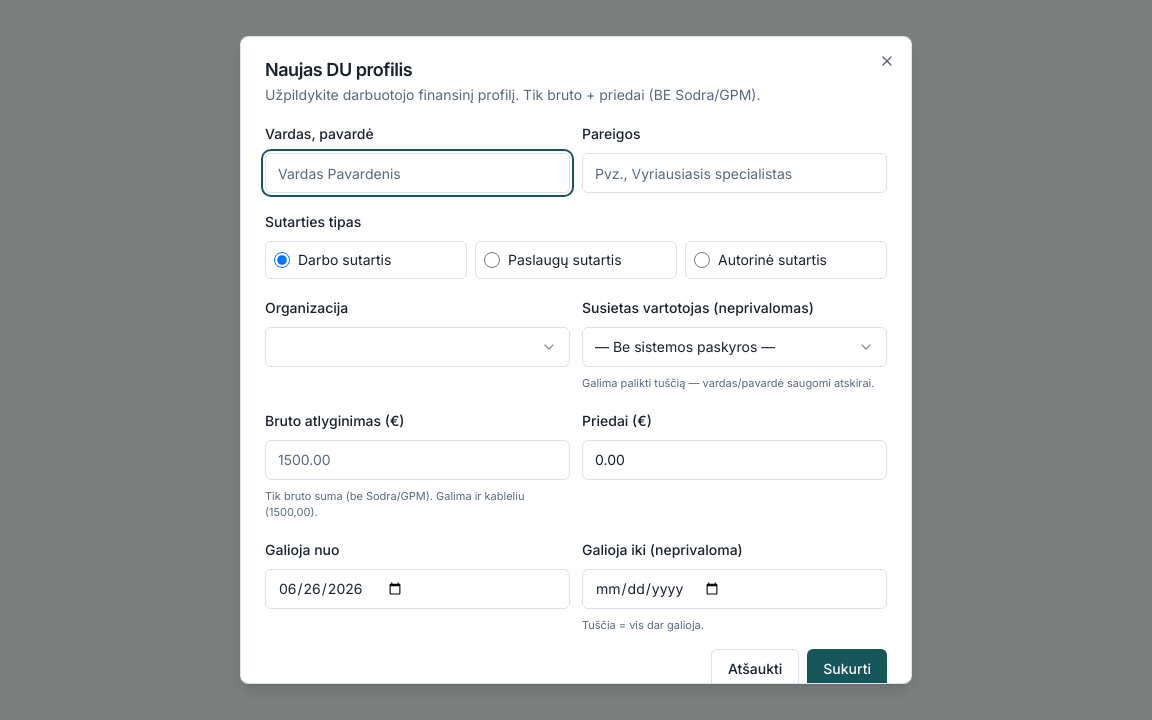
Test: PayrollProfileDialog › rodo klaidą, kai bruto atlyginimas 0 arba tuščia
Type "Jonas Jonaitis" into the field with test id "payroll-vardas-input" at {"x": 418, "y": 173}, box [265, 153, 570, 193]
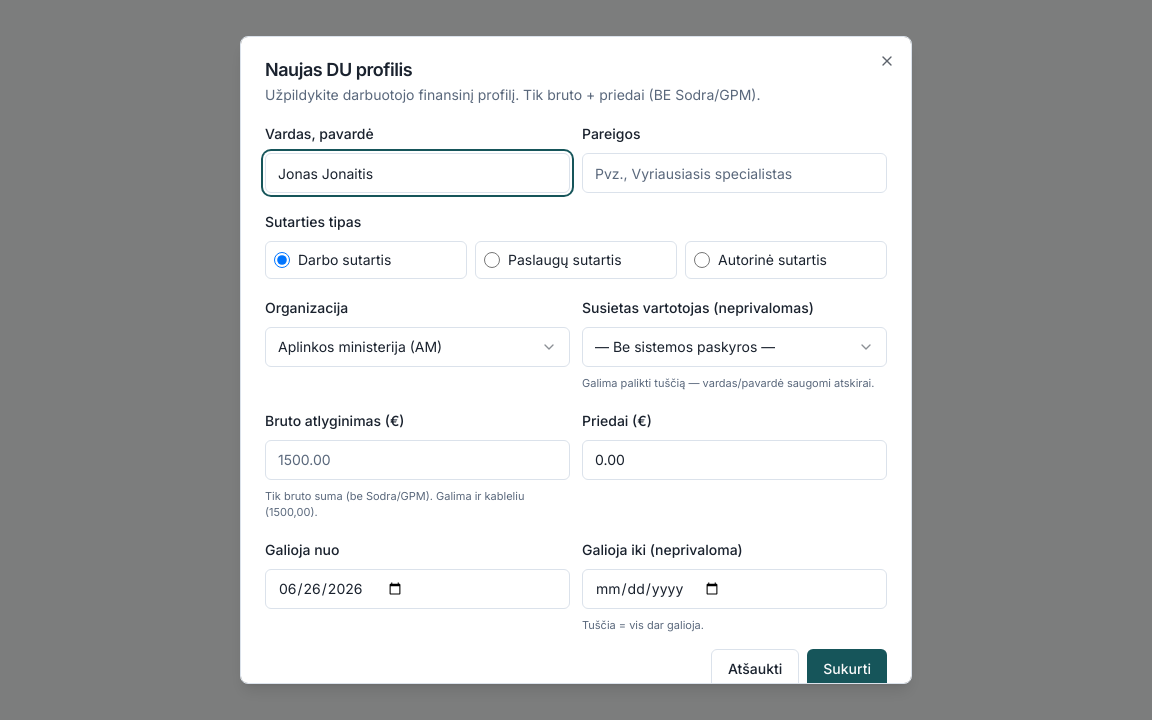
Type "Spec." into the field with test id "payroll-pareigos-input" at {"x": 734, "y": 173}, box [582, 153, 887, 193]
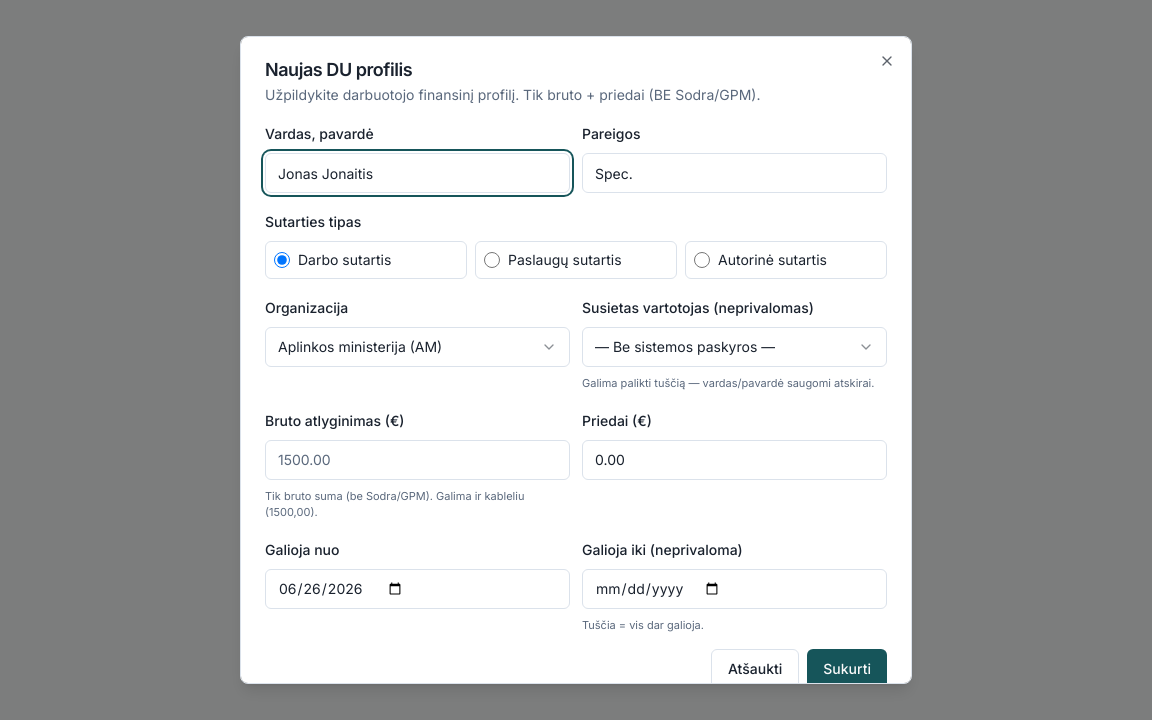
# bruto NE-užpildomas — palieka tuščią lauką.
Click the button "Sukurti" at {"x": 847, "y": 669}, box [807, 649, 887, 689]
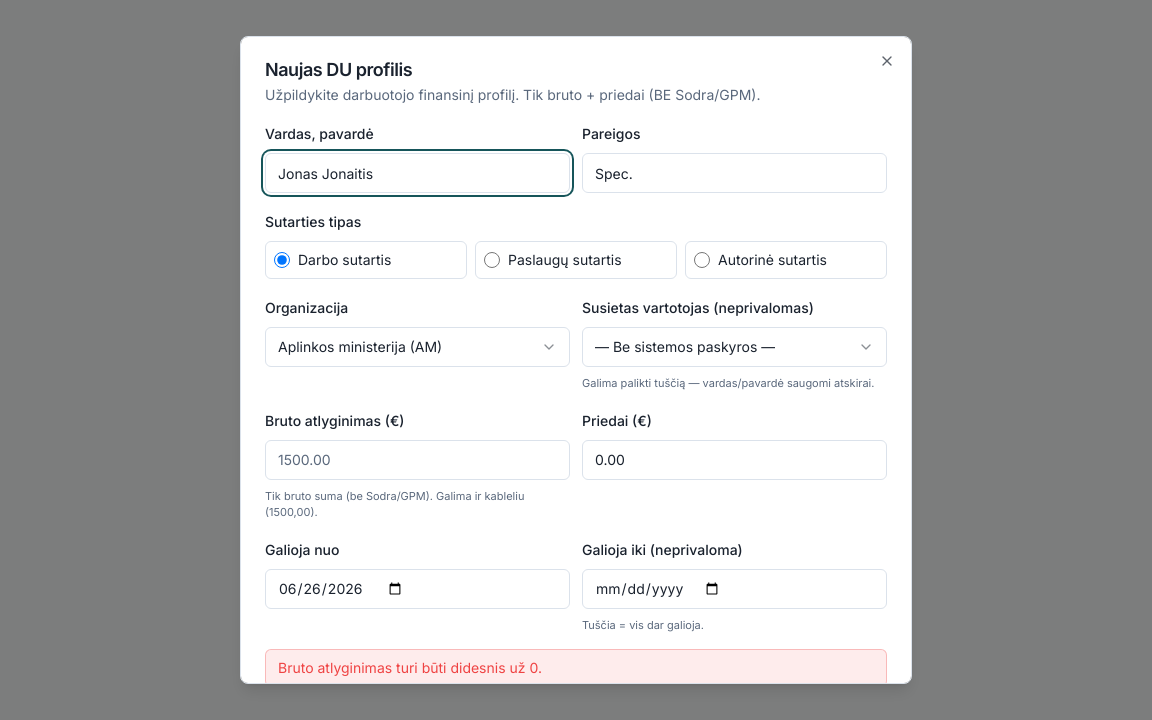
Expected: the text "Bruto atlyginimas turi būti didesnis už 0." is shown, [265, 649, 887, 684]
